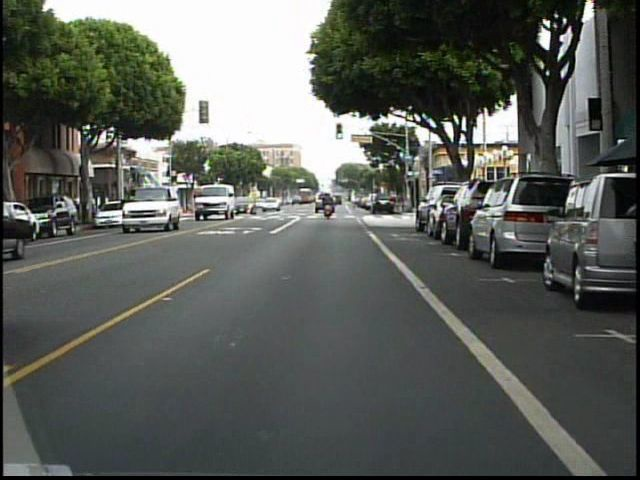person: (319, 191, 336, 220)
